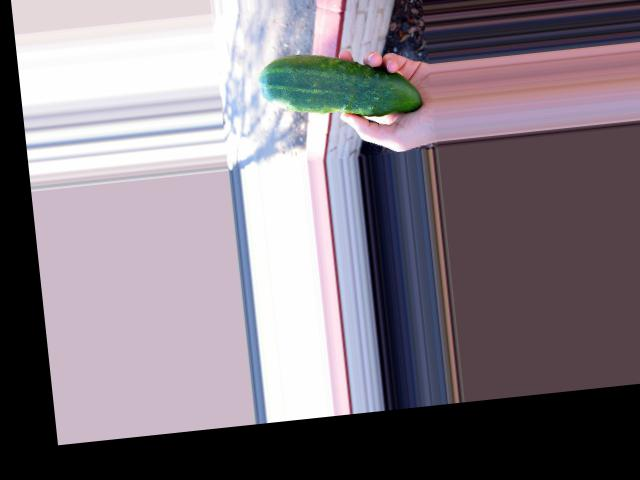cucumber: (257, 41, 422, 127)
